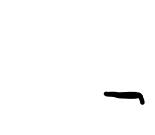minus: (104, 91, 146, 105)
